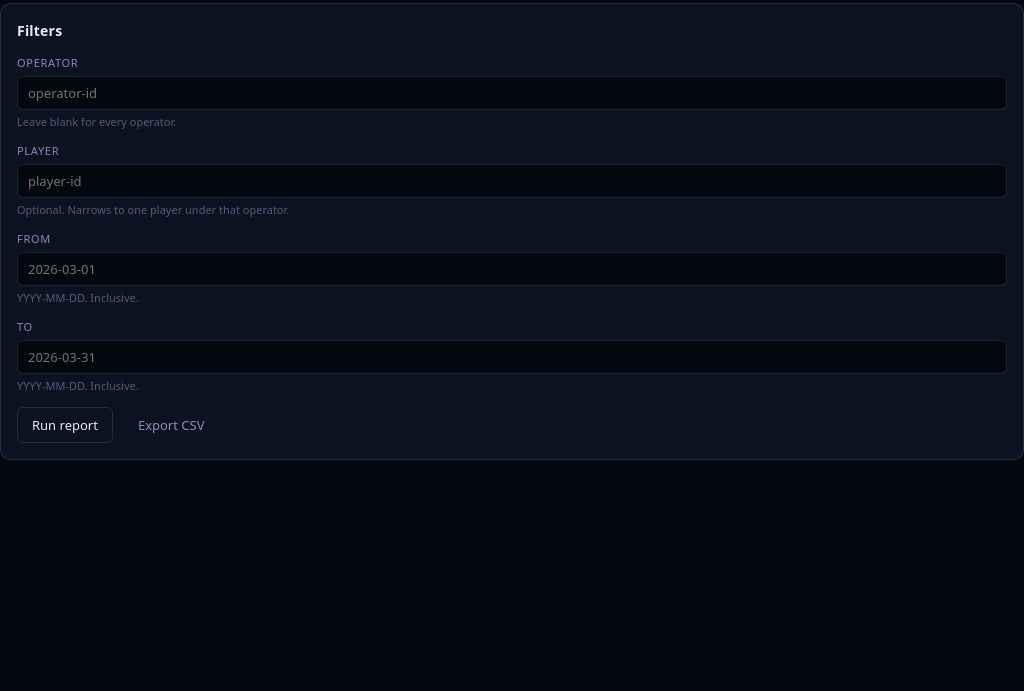
paging › appends the next page rather than replacing the current one
What coordinates should you click on to do the following:
click the button "Run report"
I would click on:
 (65, 424)
Its box is [17,406,113,442].
(page scrolled)
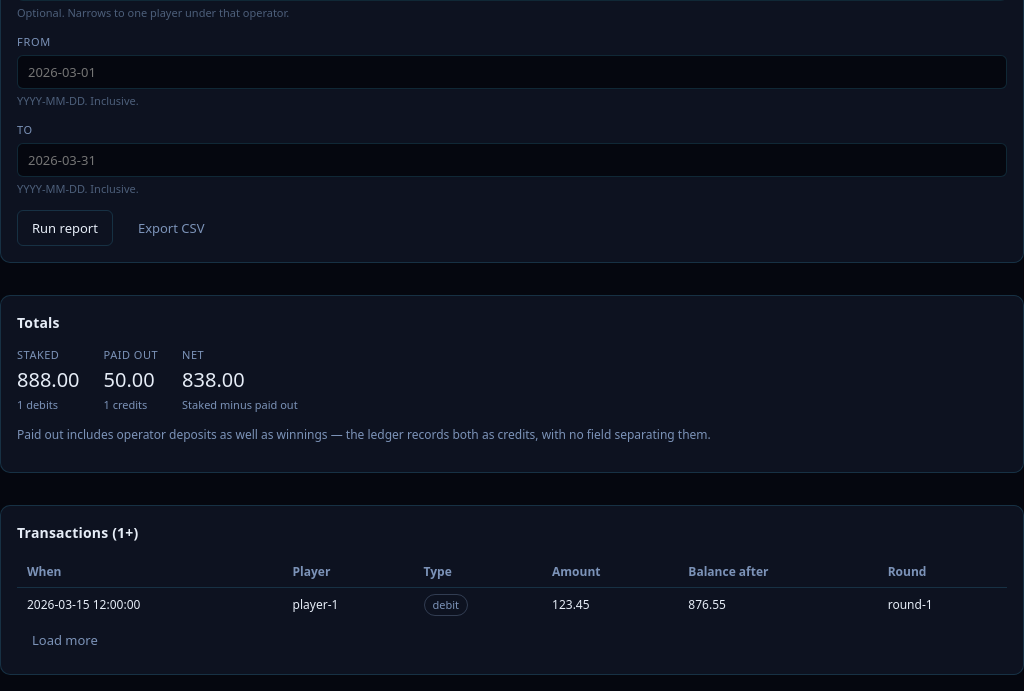
What coordinates should you click on to do the following:
click the button "Load more"
I would click on:
 (65, 640)
Its box is [17,622,113,658].
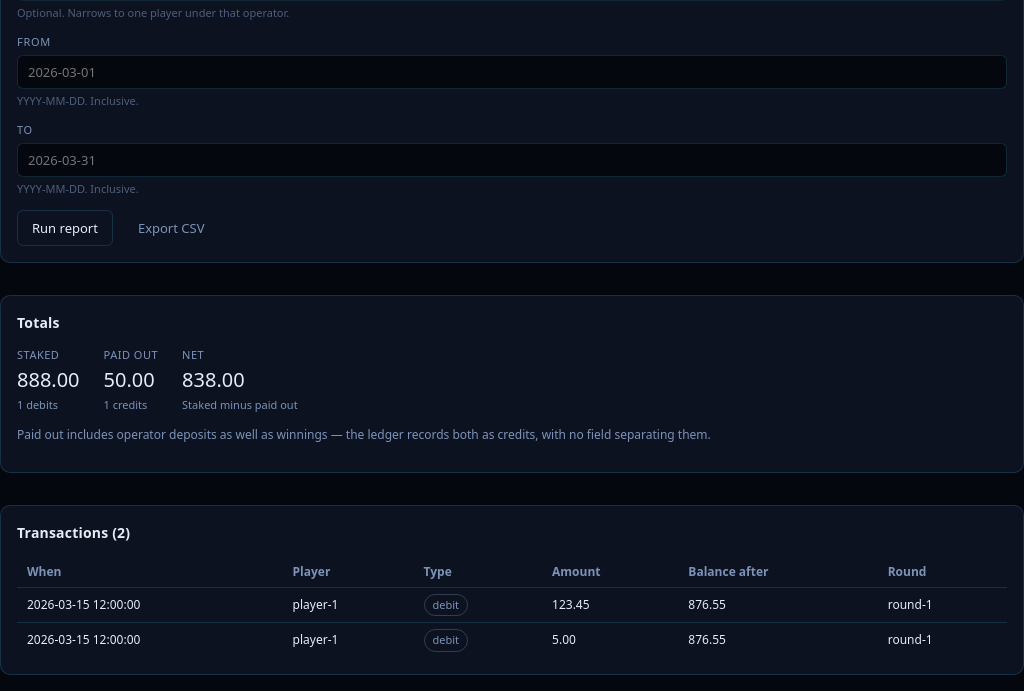
Expected: the text "123.45" is shown, [542,587,678,622]
Expected: the text "5.00" is shown, [542,622,678,658]
